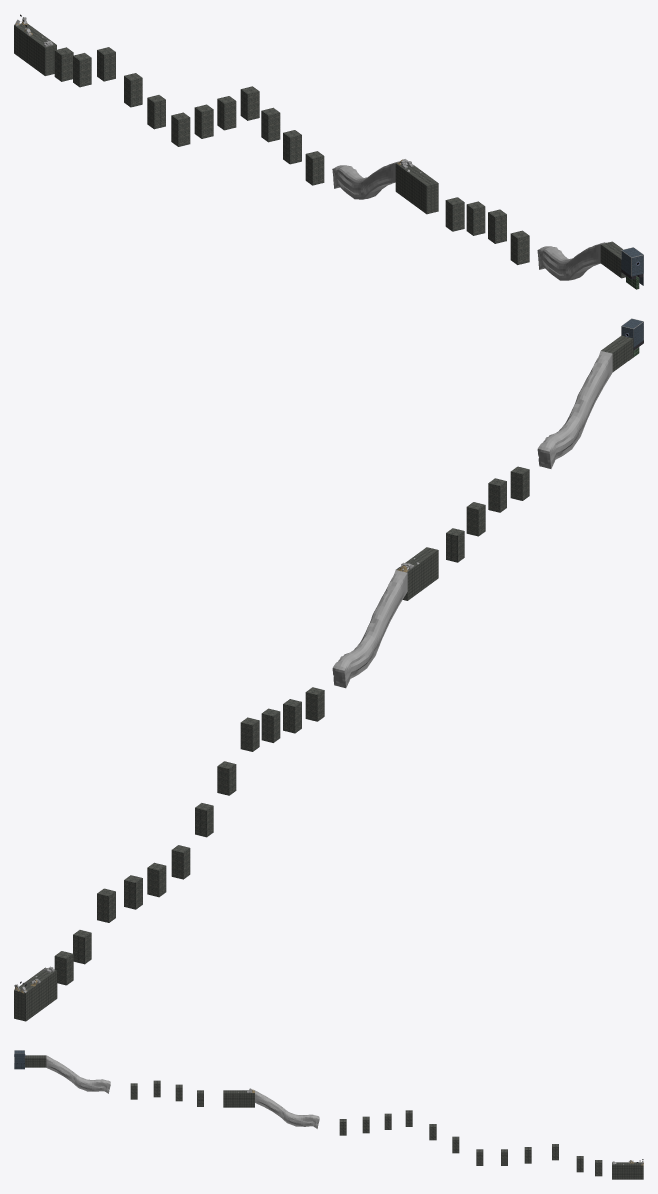
Rendered from 2过山车.fbx.
3 views of the same model, one above another, from view 1: azimuth 30°, elevation 25°; view 2: azimuth 150°, elevation 25°; view 3: azimuth 270°, elevation 25° (orthographic). The views are drawn at different scales.
Parts seen in each view (by area): view 1: Plane.127, Plane.124, Cube.668, Cube.692, Cube.689, Cube.700, Cube.699, Cube.667, Cube.691, Cube.666, Cube.701, Cube.697 (+6 smaller); view 2: Plane.124, Plane.127; view 3: Plane.127, Plane.124.
Boxes of the visible parts, box(x1,y1,x2,y2) form: Plane.127: box(537, 242, 608, 280); Plane.124: box(332, 161, 400, 199); Cube.668: box(305, 151, 324, 185); Cube.692: box(240, 86, 259, 120); Cube.689: box(217, 96, 236, 130); Cube.700: box(194, 104, 213, 138); Cube.699: box(510, 230, 529, 264); Cube.667: box(445, 197, 464, 231); Cube.691: box(261, 107, 280, 142); Cube.666: box(466, 201, 485, 235); Cube.701: box(171, 112, 190, 146); Cube.697: box(54, 47, 73, 81); Plane.124: box(332, 570, 407, 688); Plane.127: box(537, 351, 612, 468); Plane.127: box(46, 1055, 110, 1093); Plane.124: box(255, 1090, 319, 1128).
Size of the model in its own units: 1006 by 15806 by 71497.
